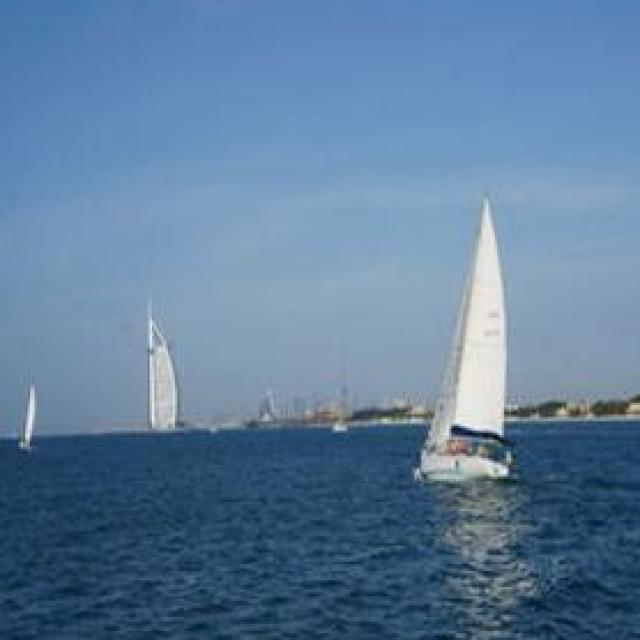sailboat: (415, 192, 517, 483), (133, 295, 190, 437), (15, 374, 40, 451)
